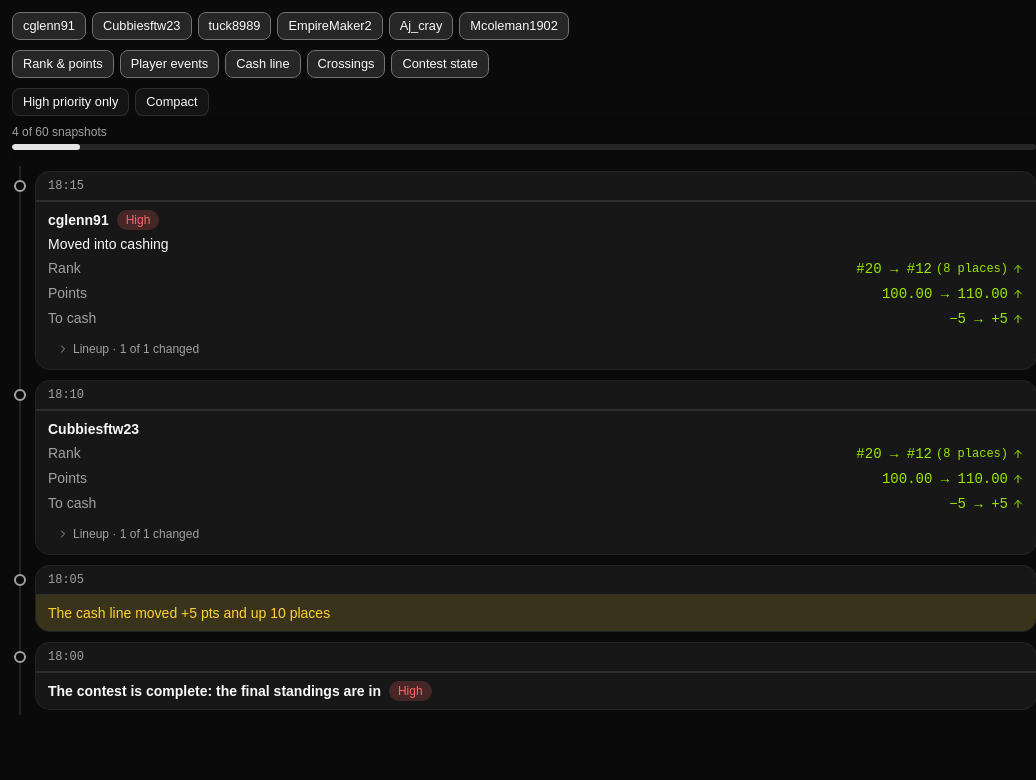
Test: Compact › renders one line per change under the Step time, with no per-VIP block, lineup expander or filtered-out line
The image size is (1036, 780).
Click the button "Compact" at (172, 102), box [135,88,208,116]
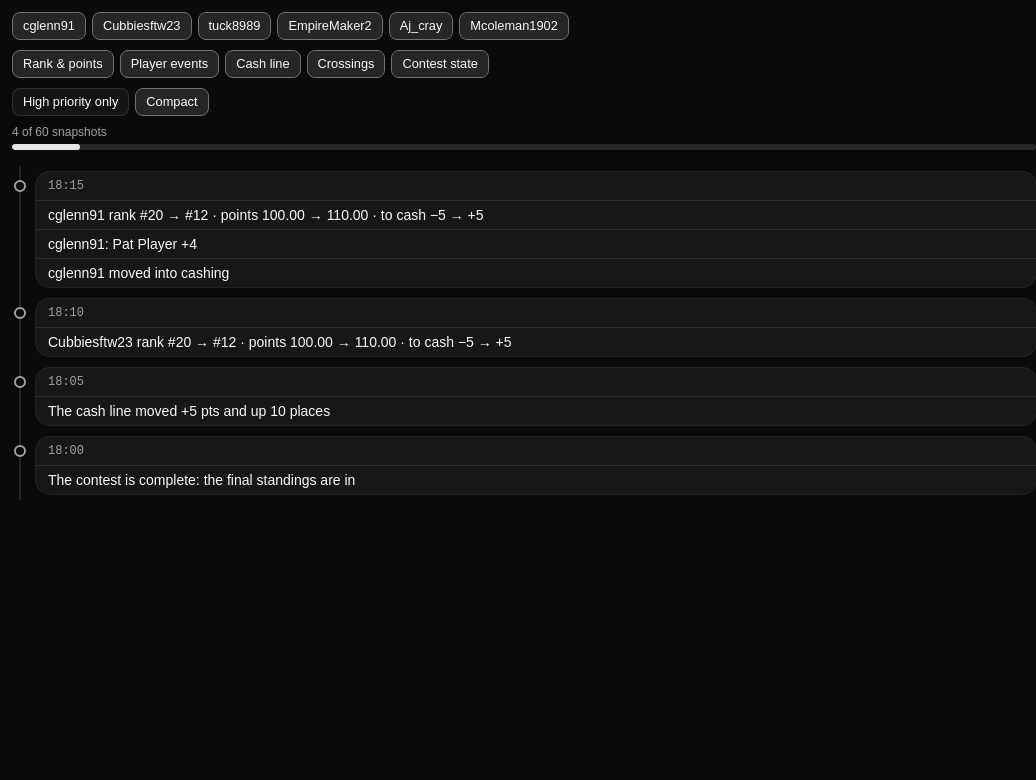
Result: the heading "cglenn91 High" is gone
Result: the button "Lineup" is gone
